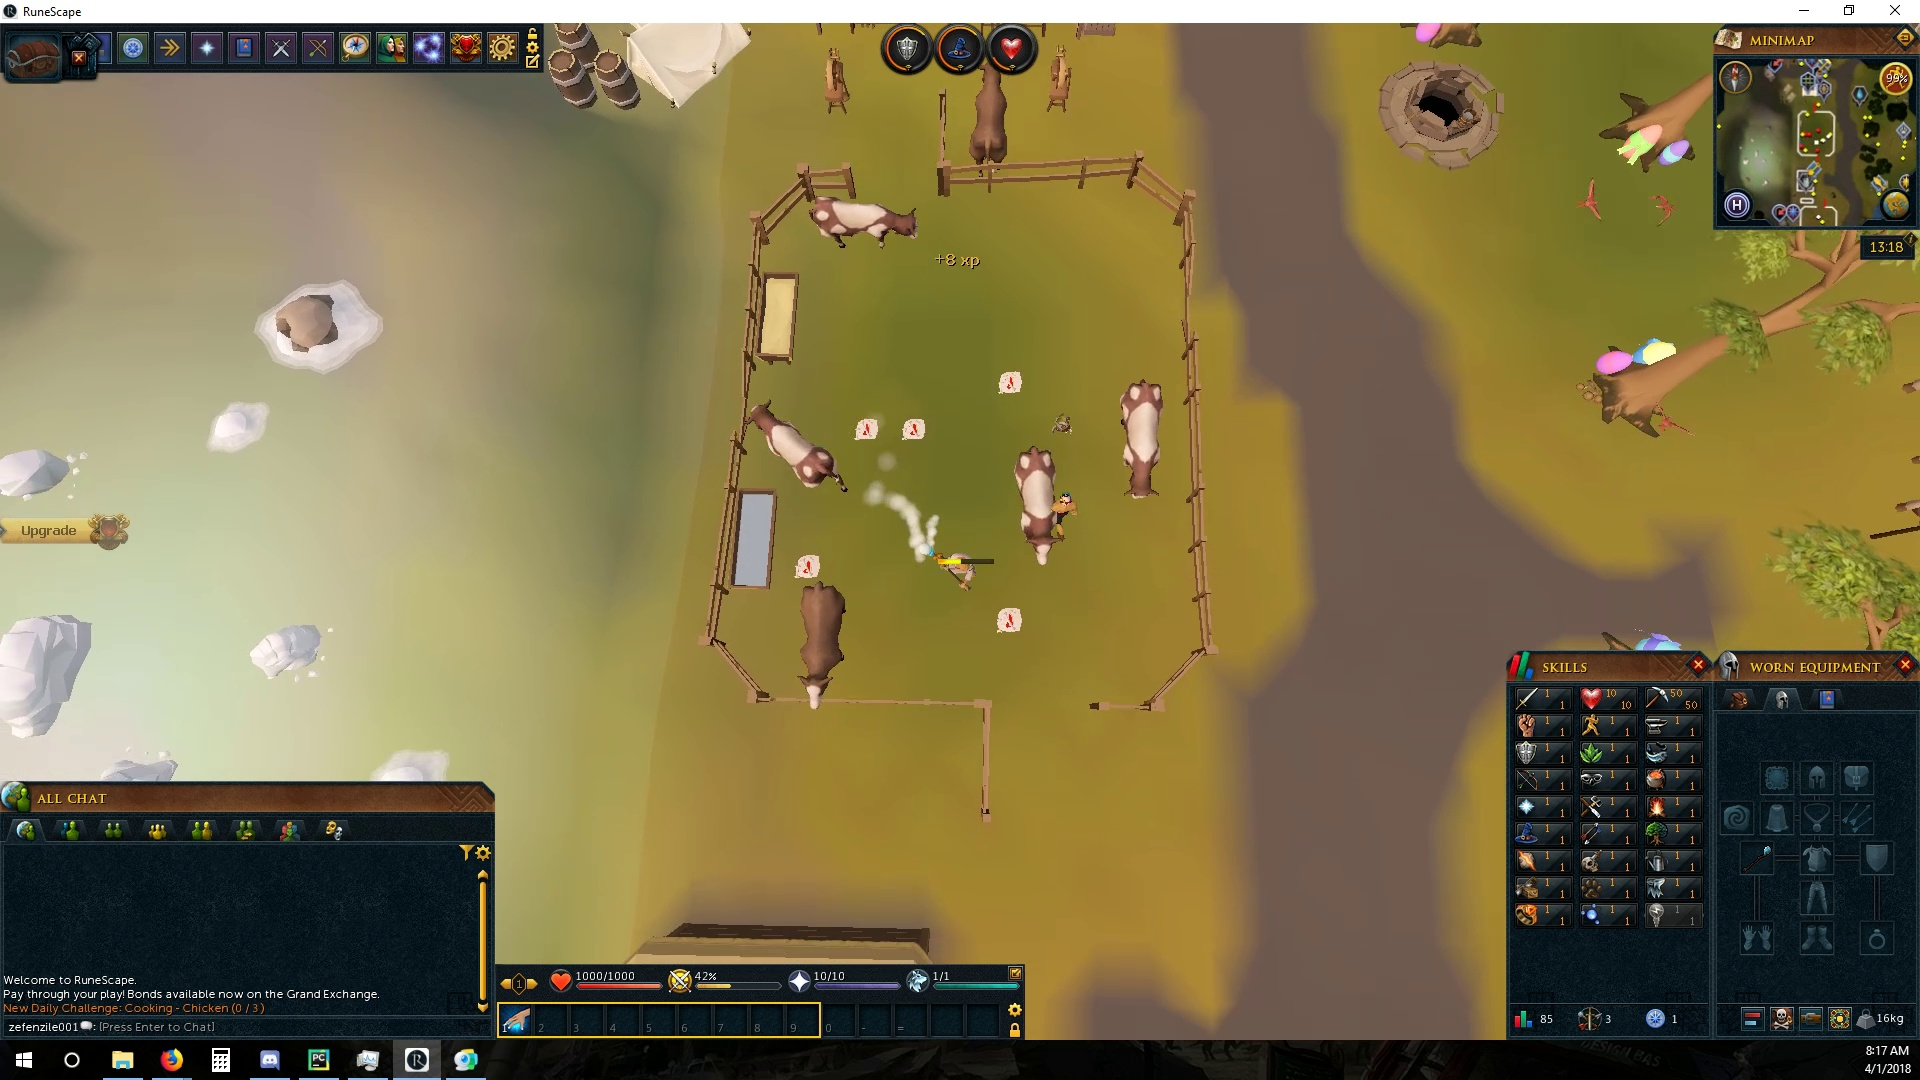cow: (745, 397, 851, 495), (806, 190, 924, 251), (795, 578, 848, 709), (1011, 444, 1063, 571), (1117, 376, 1166, 500), (969, 61, 1010, 179)
cow_drop: (990, 601, 1027, 636), (849, 413, 881, 442), (793, 554, 824, 582), (901, 417, 928, 444), (996, 371, 1023, 396)
